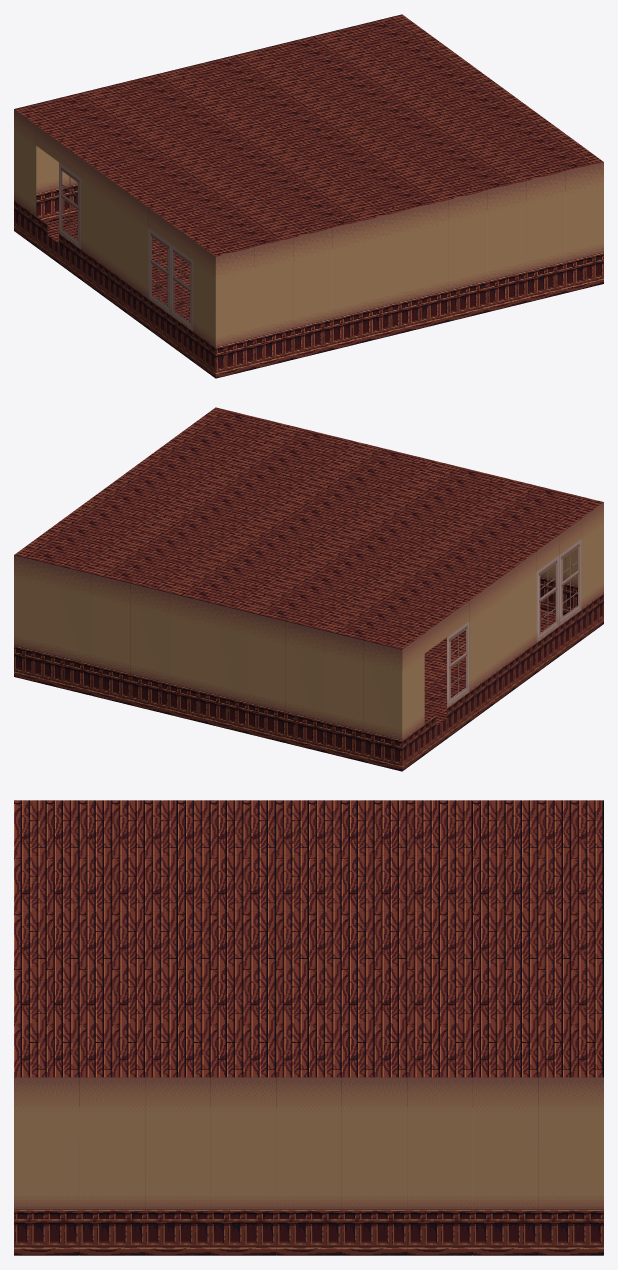
File: House.obj
The picture shows the model from 3 angles, top to bottom: view 1: azimuth 30°, elevation 25°; view 2: azimuth 150°, elevation 25°; view 3: azimuth 270°, elevation 25°; orthographic projection. The views are drawn at different scales.
Parts seen in each view (by area): view 1: Default; view 2: Default; view 3: Default.
Boxes of the visible parts, x1,y1,x2,y2 form: Default: (14, 14, 603, 378); Default: (14, 407, 603, 771); Default: (14, 800, 603, 1255).
Bounding box in the file's own units: 6.4 × 1.92 × 5.76.
1 material, 1 textured.
